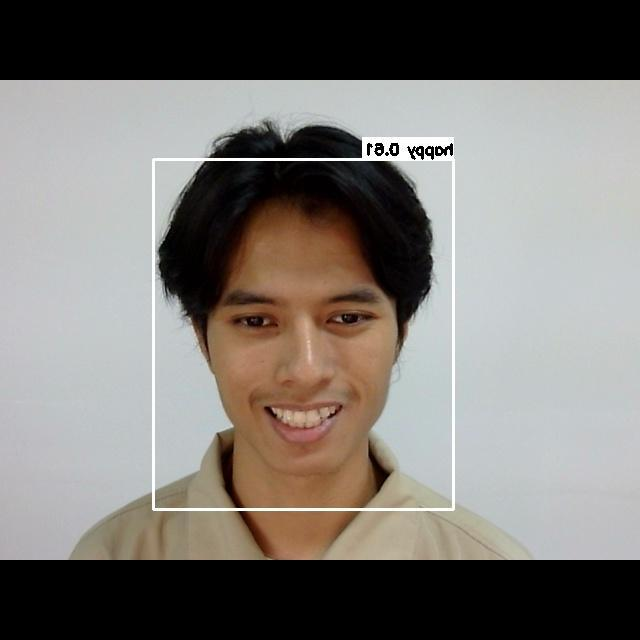Happy: (187, 254, 407, 456)
